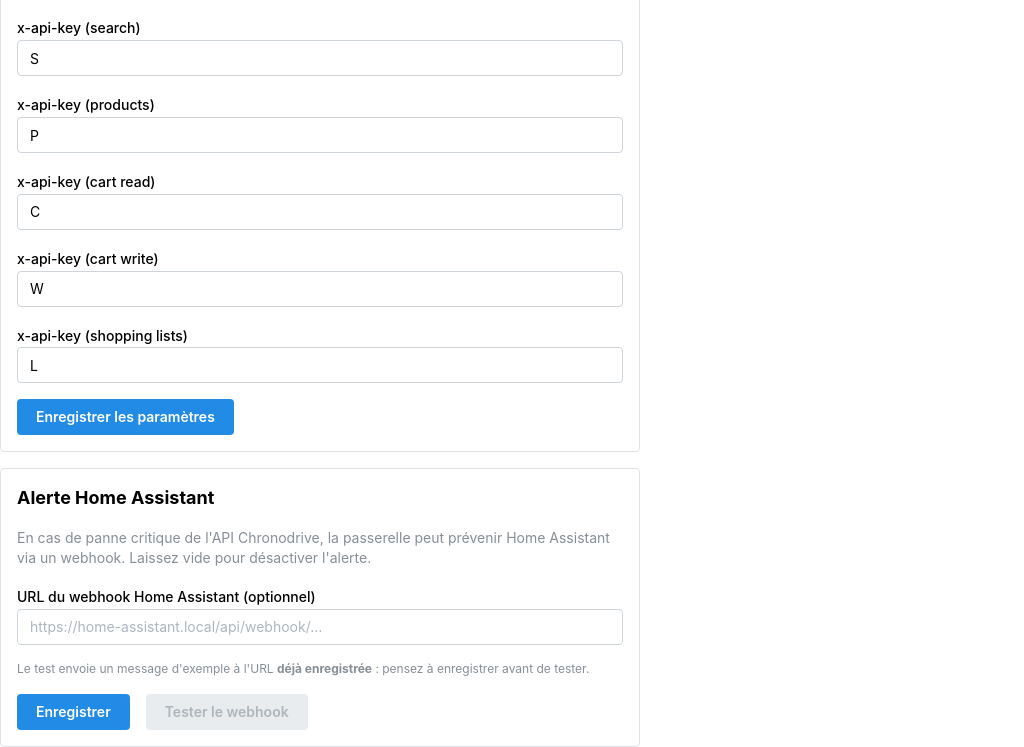
Test case: ConfigPage › saves the Home Assistant webhook URL and sends a test
(page scrolled)
Type "https://ha.local/api/webhook/abc" into the field labelled "URL du webhook Home Assistant (optionnel)".
click(320, 627); type("https://ha.local/api/webhook/abc")  # box x1=17 y1=609 x2=623 y2=645
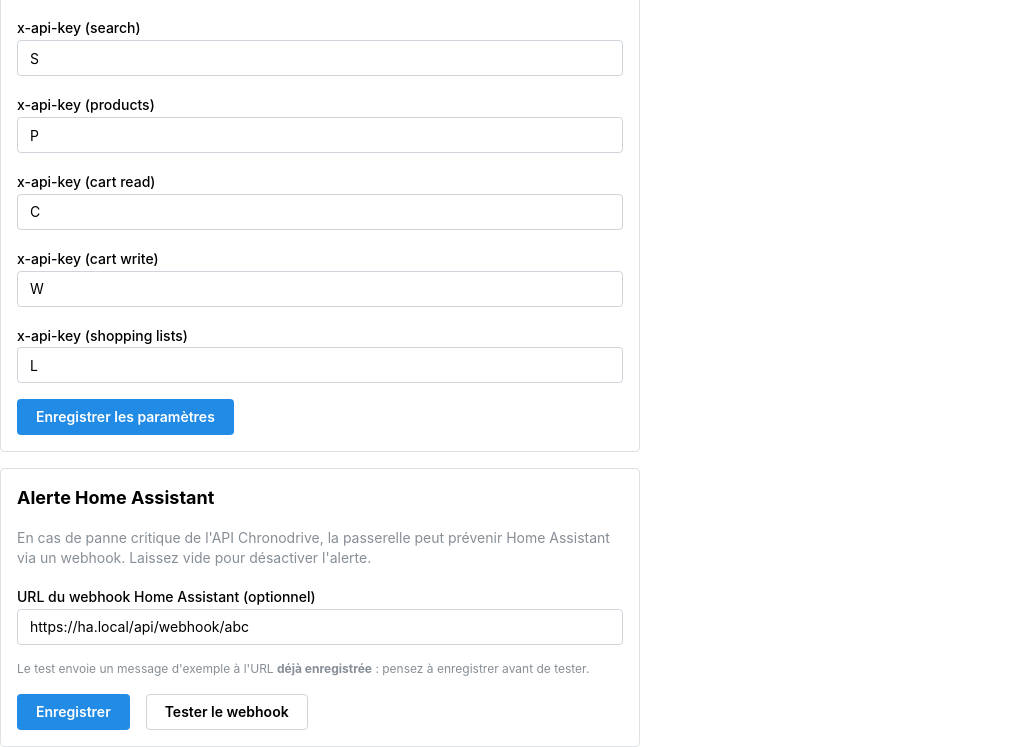
Click the button "Enregistrer".
click(73, 712)  # box x1=17 y1=694 x2=130 y2=730
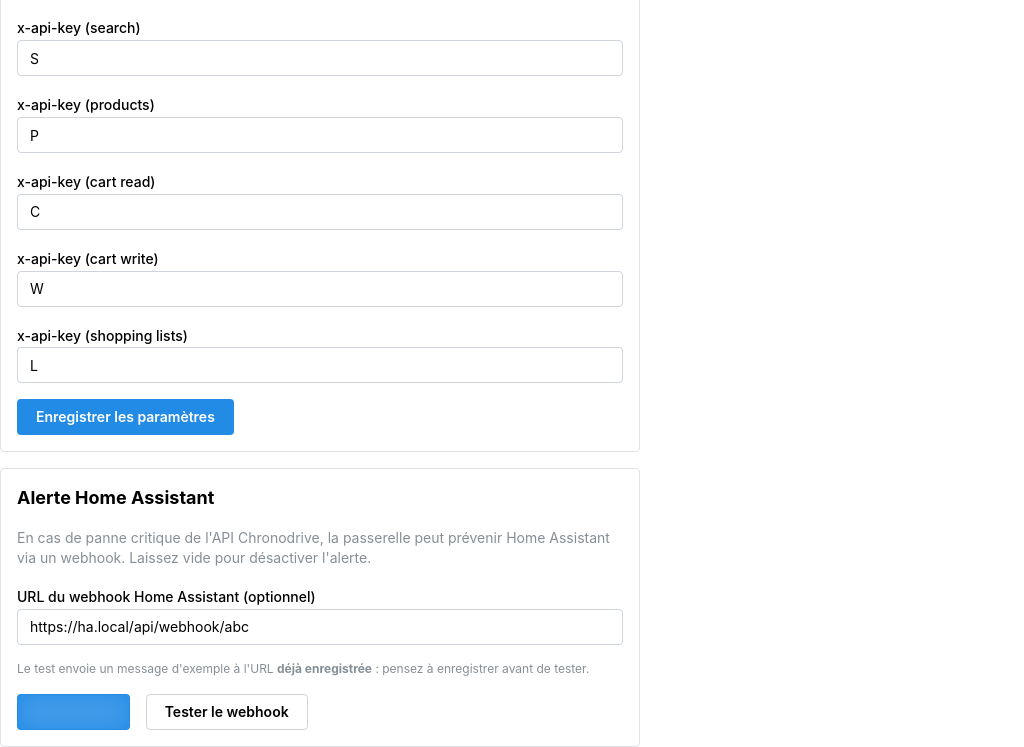
Click the button "Tester le webhook".
click(227, 712)  # box x1=146 y1=694 x2=308 y2=730
(page scrolled)
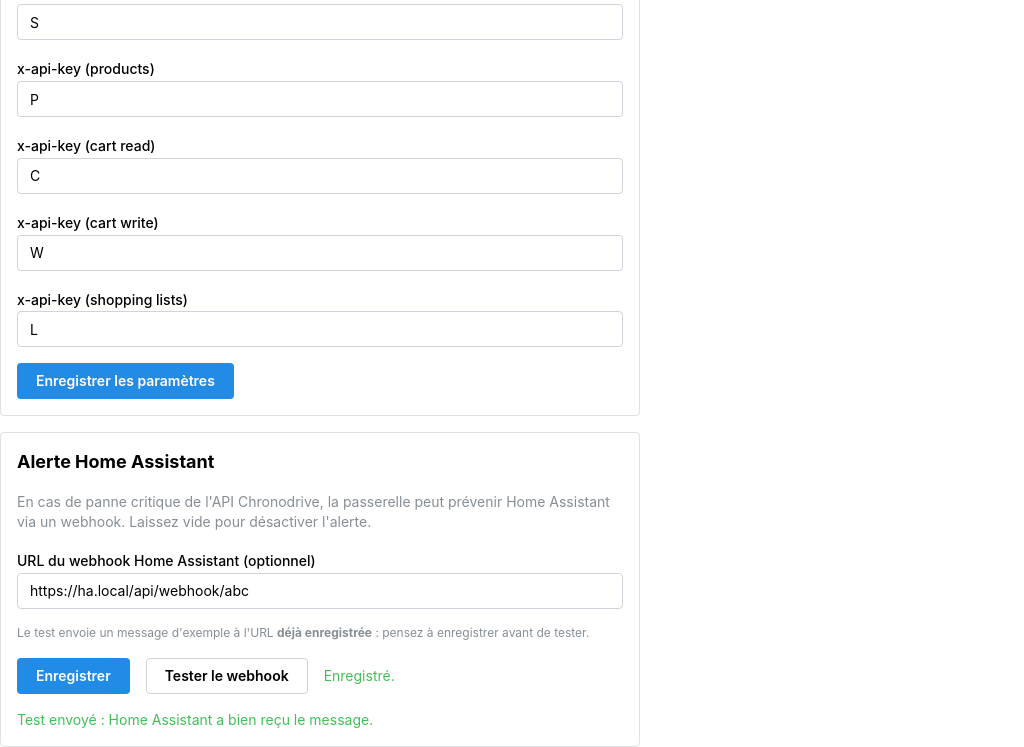
Now the text "Test envoyé : Home Assistant a bien reçu le message." is shown, box x1=17 y1=711 x2=373 y2=728
